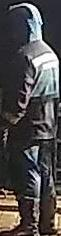vest: (12, 42, 58, 148)
